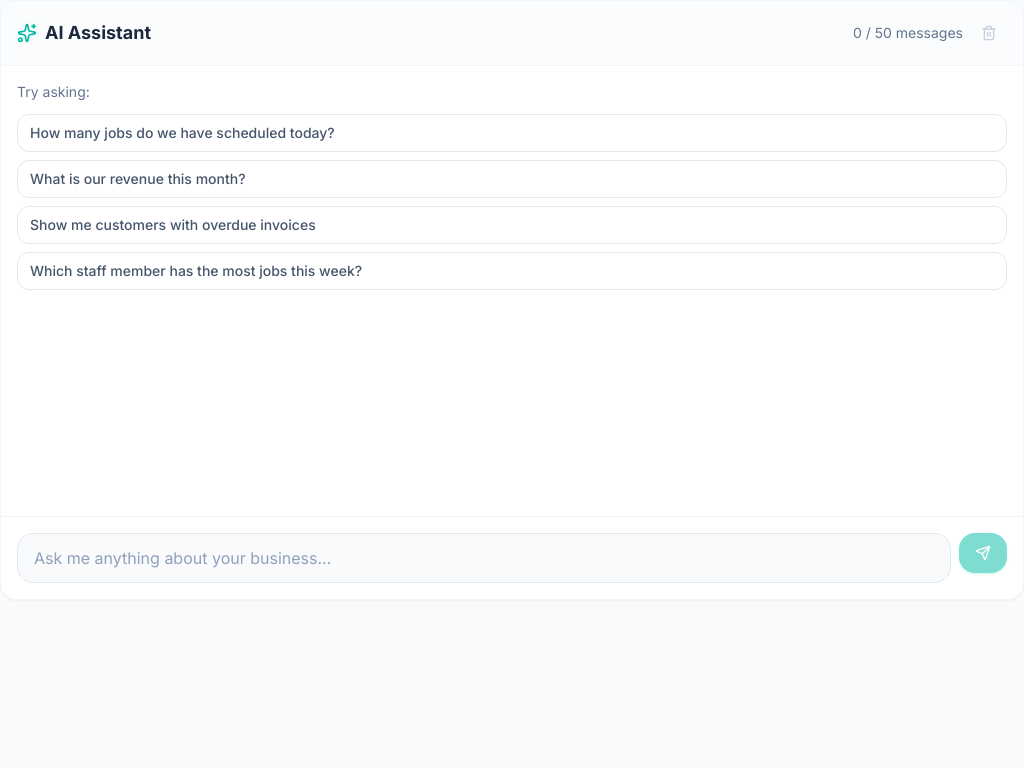
Test: AIQueryChat › displays loading state while sending message
Type "Test message" into the field with test id "ai-chat-input" at point(484, 558), box [17, 533, 951, 583]
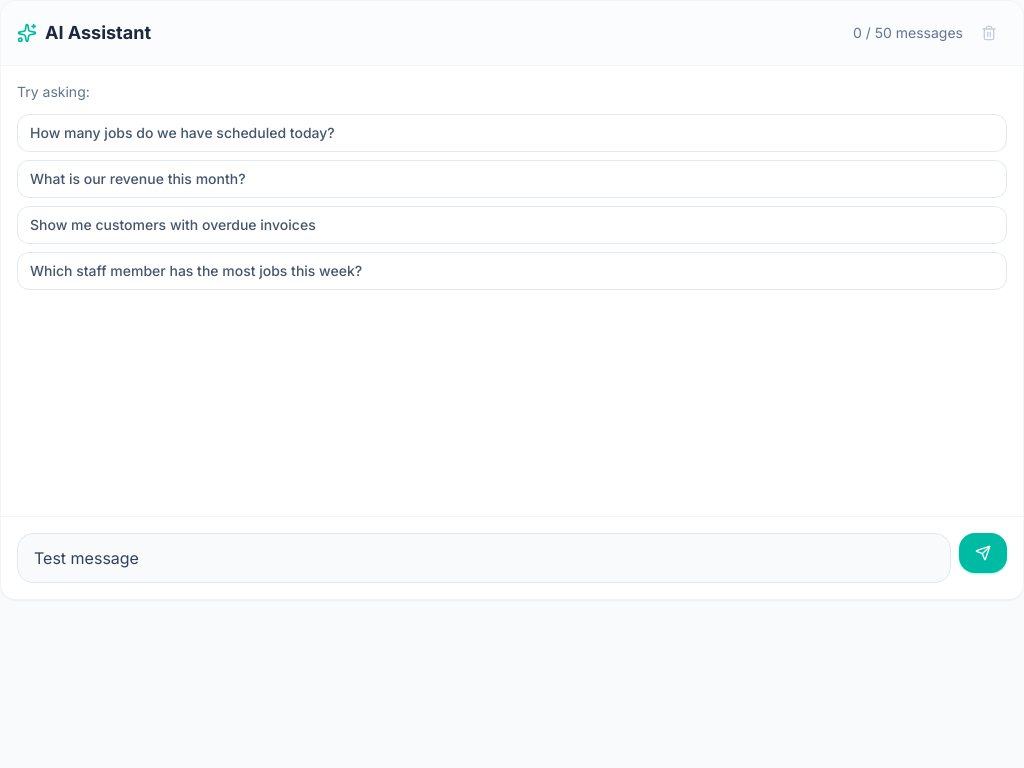
Click the button with test id "ai-send-btn" at point(983, 553), box [959, 533, 1007, 573]
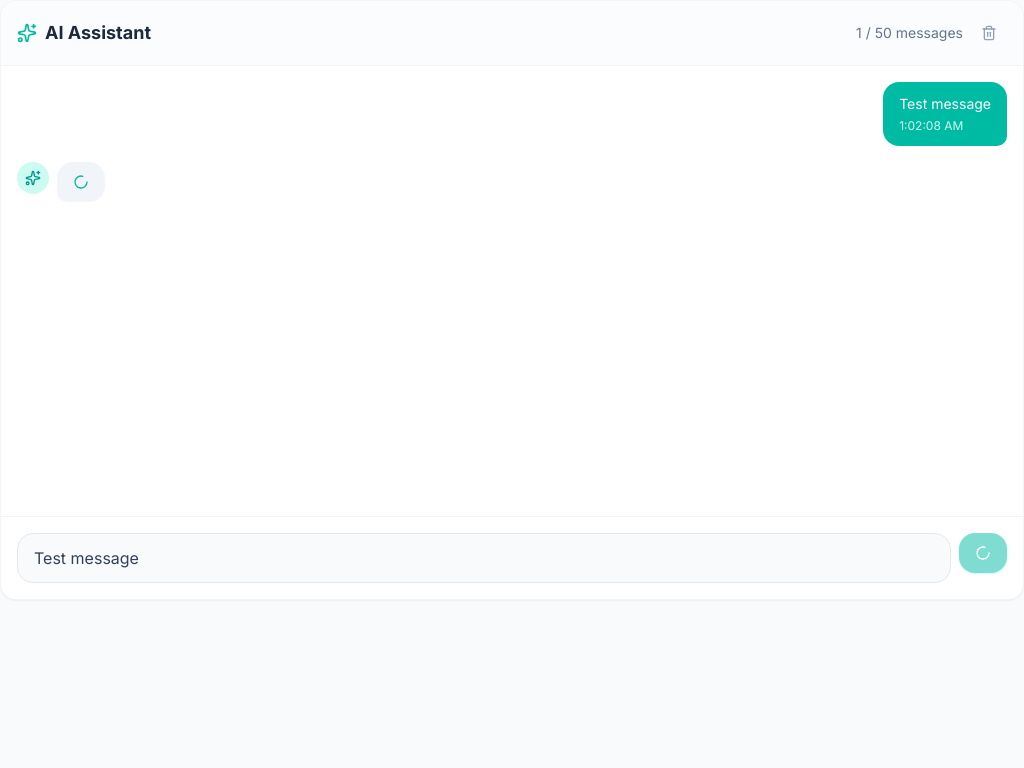
Check: the element with test id "ai-chat-loading" is shown, box [17, 162, 105, 202]
